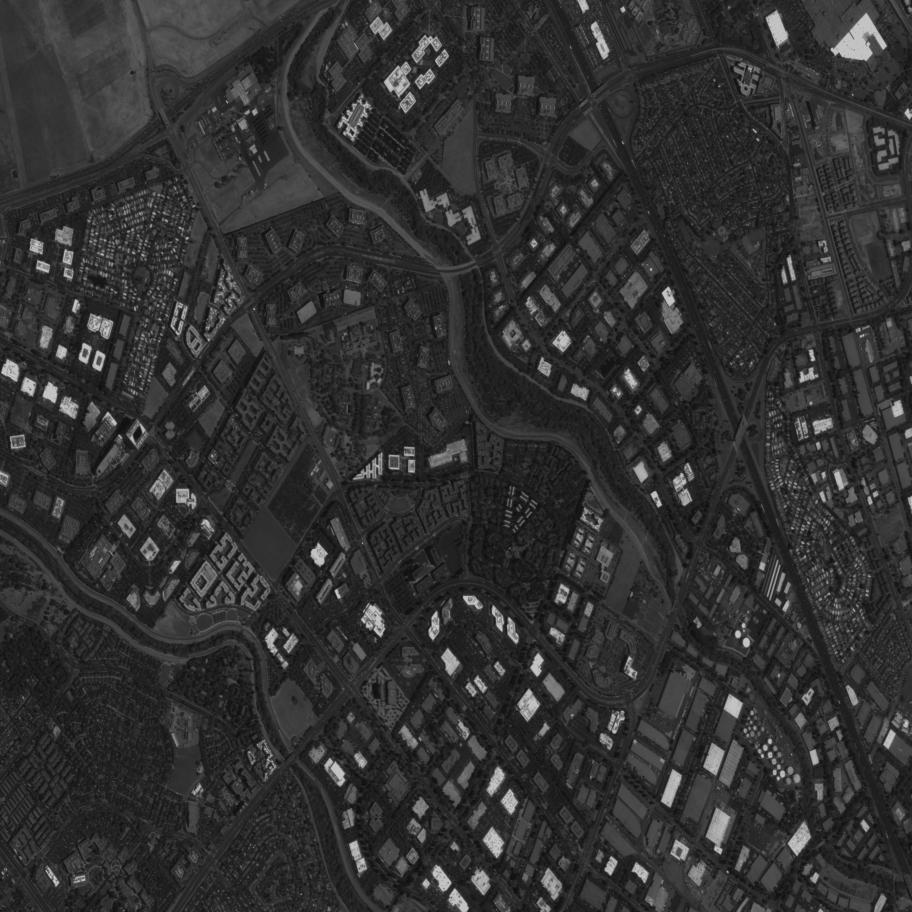storage-tank: (741, 638, 751, 648), (786, 766, 795, 775), (733, 630, 741, 639), (793, 774, 801, 783), (784, 777, 792, 785), (766, 751, 774, 759), (740, 622, 747, 629), (780, 770, 786, 778), (751, 725, 758, 731), (760, 725, 766, 732), (767, 738, 773, 745), (771, 769, 777, 776), (762, 744, 768, 751), (742, 728, 748, 734), (753, 743, 759, 749), (772, 746, 778, 752), (772, 758, 777, 765), (746, 726, 752, 731), (749, 710, 755, 715), (750, 731, 755, 737), (777, 764, 782, 770), (776, 753, 782, 758), (757, 749, 762, 755), (753, 716, 758, 721), (744, 617, 749, 622), (776, 776, 781, 781), (760, 754, 765, 759), (748, 721, 754, 725), (756, 732, 761, 736), (746, 716, 751, 720), (744, 734, 749, 738), (781, 759, 785, 764), (746, 610, 750, 614), (743, 629, 746, 633)
